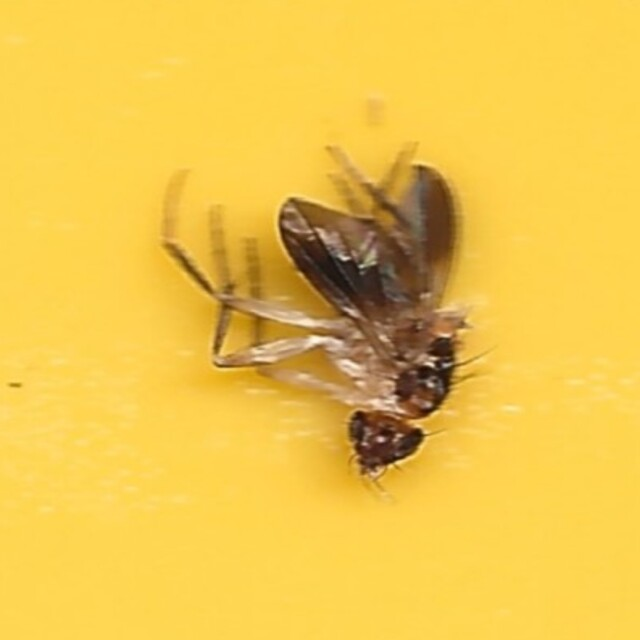Brachycera: (161, 136, 479, 504)
